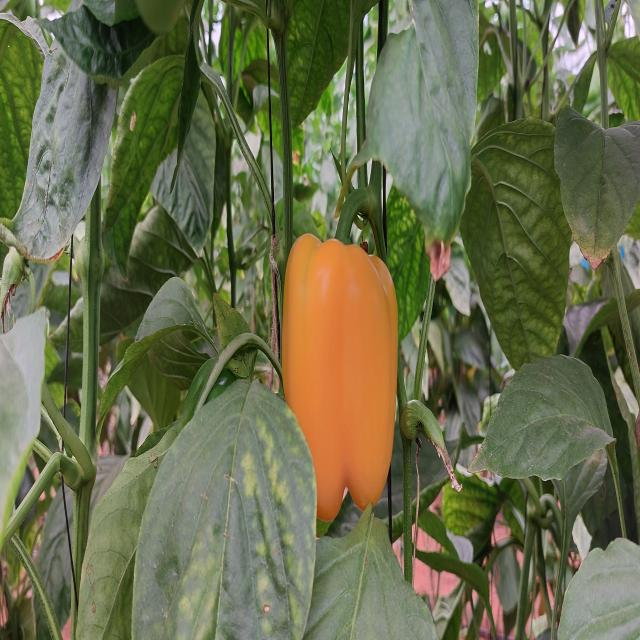Yellow-Ready-to-Harvest: (280, 227, 399, 523)
